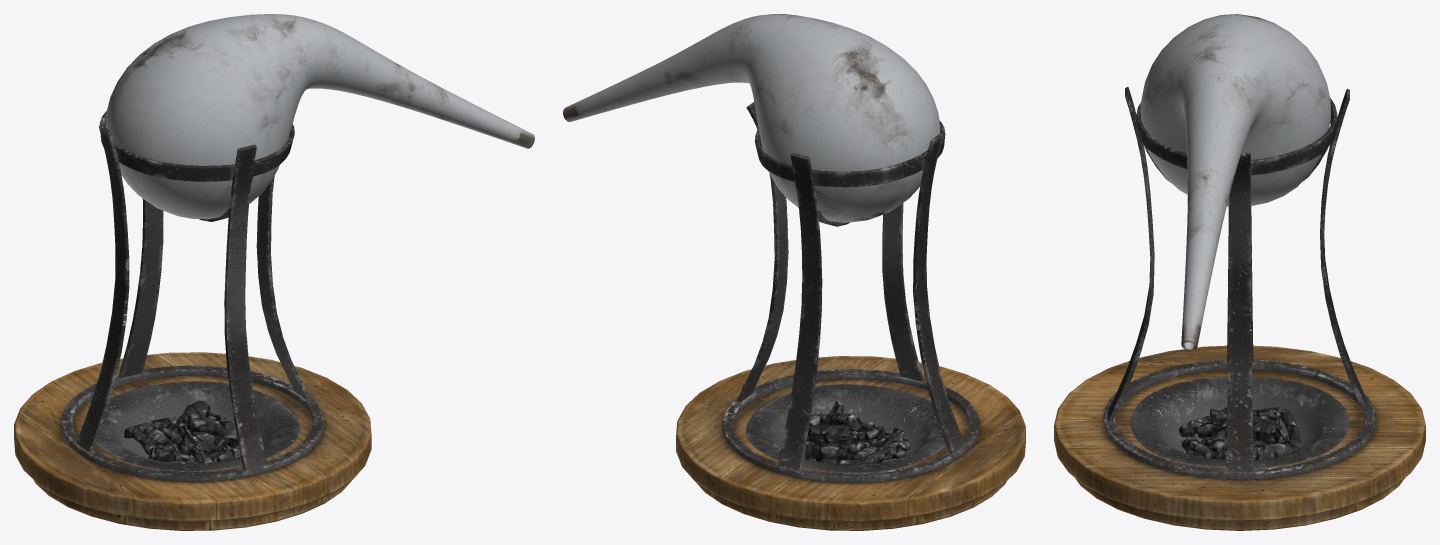
File: Flask01.fbx
3 renders of one model, left to right at view 1: azimuth 30°, elevation 25°; view 2: azimuth 150°, elevation 25°; view 3: azimuth 270°, elevation 25°, orthographic. The views are drawn at different scales.
Visible parts, largest first — view 1: KuJ AL Flask 01.Shape; view 2: KuJ AL Flask 01.Shape; view 3: KuJ AL Flask 01.Shape.
Part boxes in pixels (<box>): KuJ AL Flask 01.Shape: <box>14,14,534,530</box>; KuJ AL Flask 01.Shape: <box>563,14,1025,530</box>; KuJ AL Flask 01.Shape: <box>1054,14,1425,530</box>.
Size of the model in its own units: 67.87 by 61.49 by 44.64.
4 materials, 3 textured.
